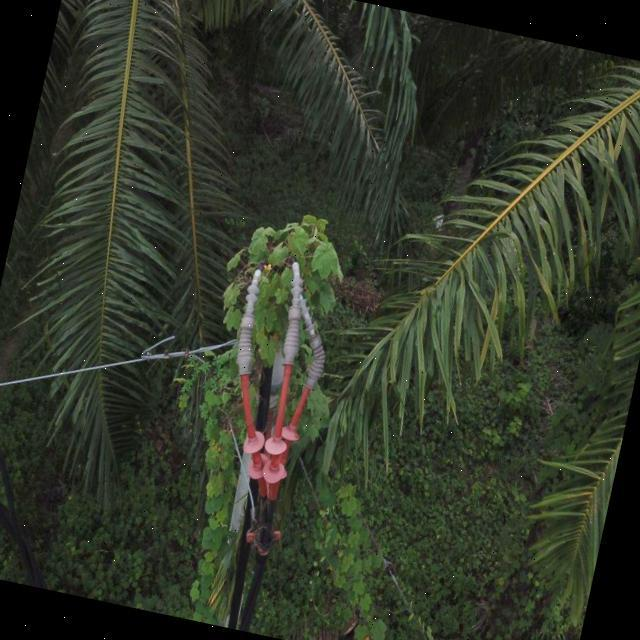critical vegetation: (144, 190, 358, 634), (290, 449, 489, 640)
